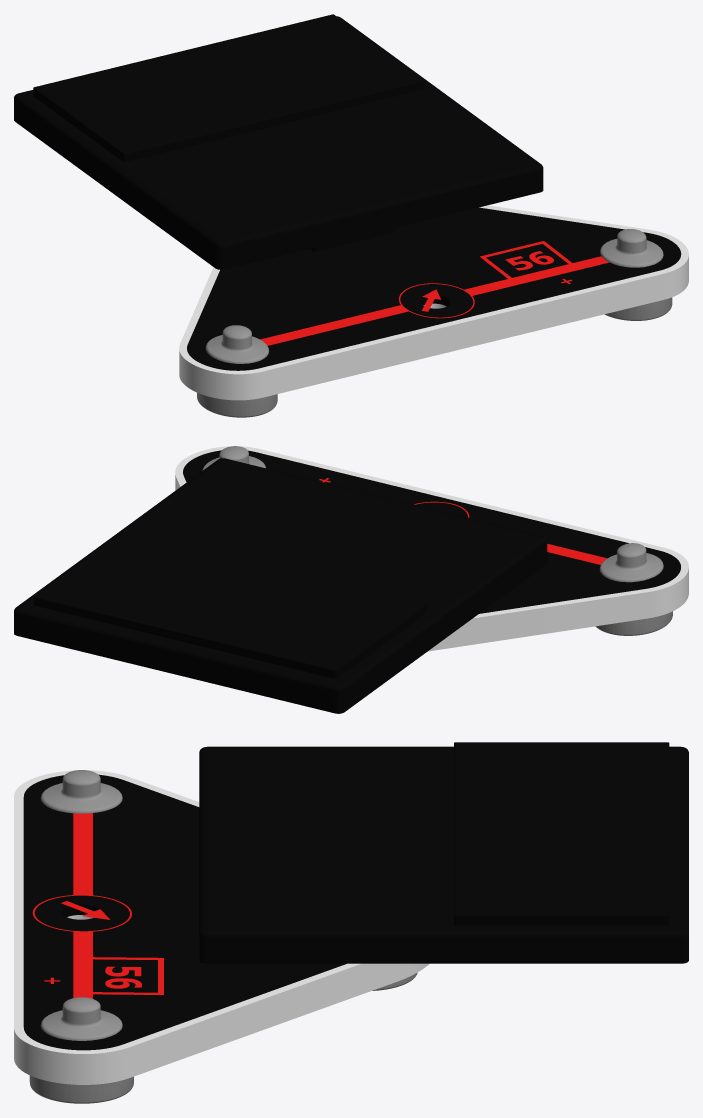
File: Ammeter.FBX
3 views of the same model, one above another, from view 1: azimuth 30°, elevation 25°; view 2: azimuth 150°, elevation 25°; view 3: azimuth 270°, elevation 25° (orthographic). The views are drawn at different scales.
Visible parts, largest first — view 1: Obj (×3), ButtonUp (×2), Text, ButtonDown (×2); view 2: Obj (×3), ButtonUp (×2), ButtonDown, Text; view 3: Obj (×3), ButtonUp (×2), Text (×2), ButtonDown.
Boxes of the visible parts, left/top/right/bottom form: Obj (×3): left=14, top=14, right=688, bottom=400; ButtonUp (×2): left=205, top=229, right=663, bottom=363; Text: left=260, top=241, right=608, bottom=345; ButtonDown (×2): left=197, top=297, right=672, bottom=417; Obj (×3): left=14, top=446, right=688, bottom=713; ButtonUp (×2): left=202, top=446, right=663, bottom=582; ButtonDown: left=595, top=611, right=672, bottom=635; Text: left=414, top=501, right=606, bottom=564; Obj (×3): left=14, top=742, right=688, bottom=1084; ButtonUp (×2): left=40, top=770, right=122, bottom=1040; Text (×2): left=32, top=813, right=163, bottom=998; ButtonDown: left=29, top=1075, right=133, bottom=1103.
Bounding box in the file's own units: 96.4 × 22.42 × 96.86.
